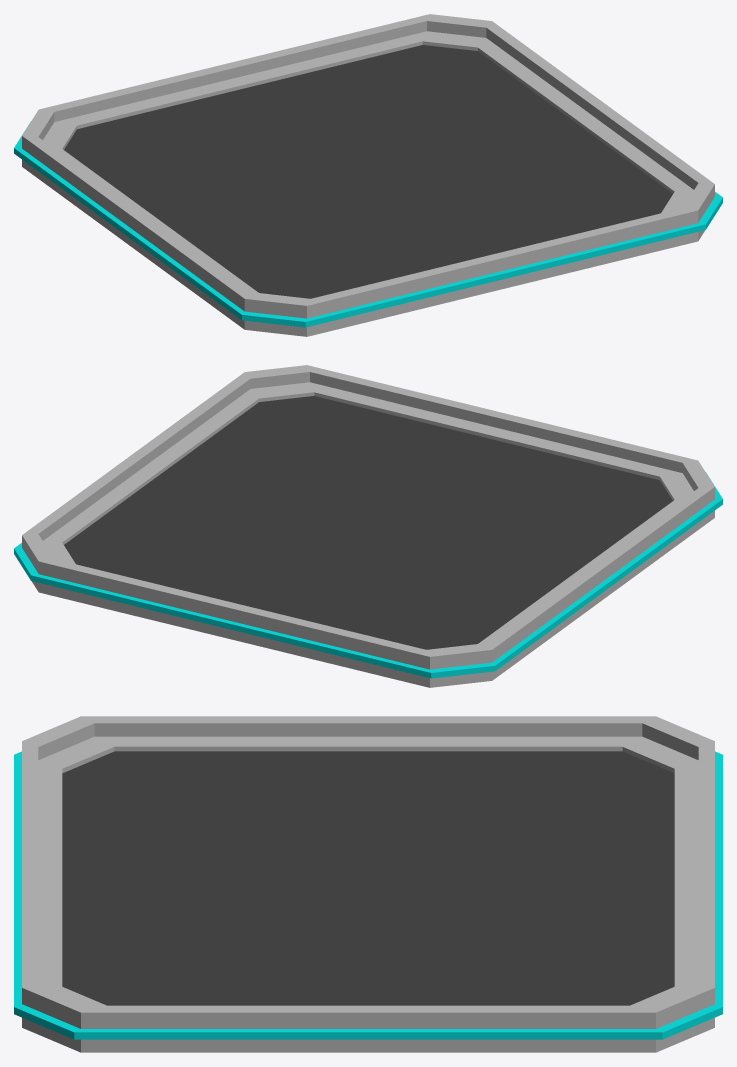
File: ArregloUVs.fbx
The picture shows the model from 3 angles, top to bottom: view 1: azimuth 30°, elevation 25°; view 2: azimuth 150°, elevation 25°; view 3: azimuth 270°, elevation 25°; orthographic projection. The views are drawn at different scales.
Parts seen in each view (by area): view 1: polySurface24; view 2: polySurface24; view 3: polySurface24.
Boxes of the visible parts, x1,y1,x2,y2 form: polySurface24: (14,14,722,336); polySurface24: (14,365,722,687); polySurface24: (14,716,722,1052).
Bounding box in the file's own units: 8.26 × 0.5087 × 8.16.
